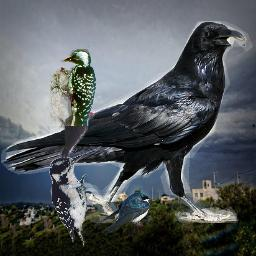Crow: (1, 21, 253, 223)
Swallow: (94, 192, 151, 233)
Woodpecker: (49, 155, 89, 247), (50, 49, 96, 126), (58, 107, 95, 159)
